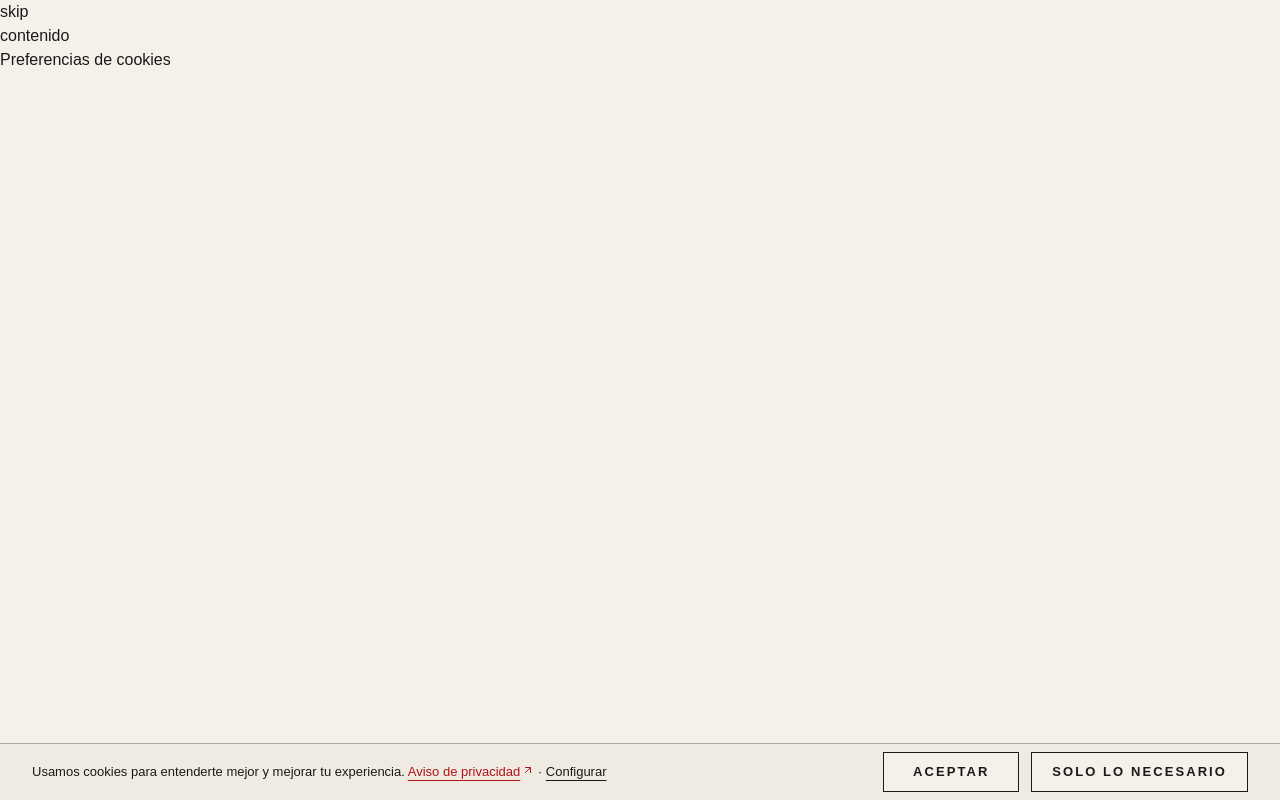
Test: C-F9 · sin patrones oscuros › en la segunda capa los dos interruptores nacen apagados
This screenshot has width=1280, height=800.
Click the button "Configurar" at (576, 772), box [546,763,606,781]
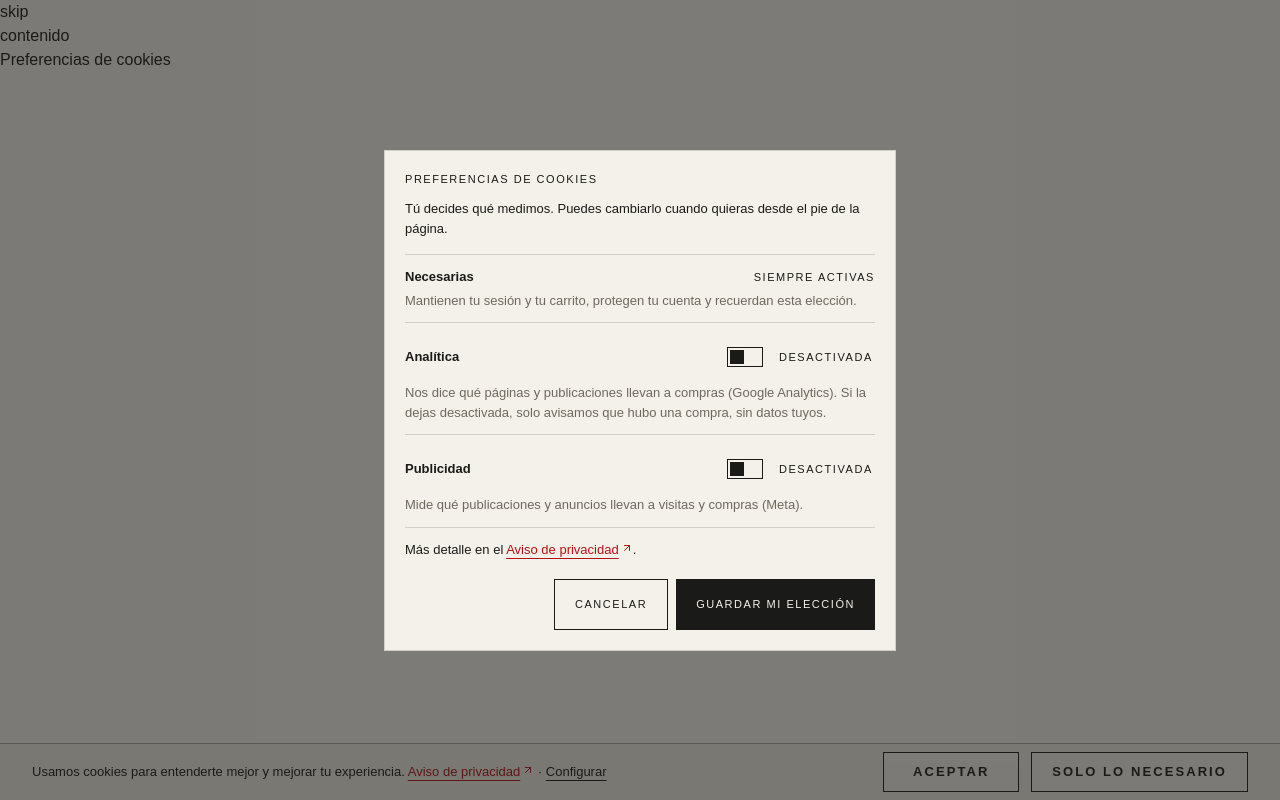
Now the number of switches is 2, box [723,335,767,379]; [723,447,767,491]
